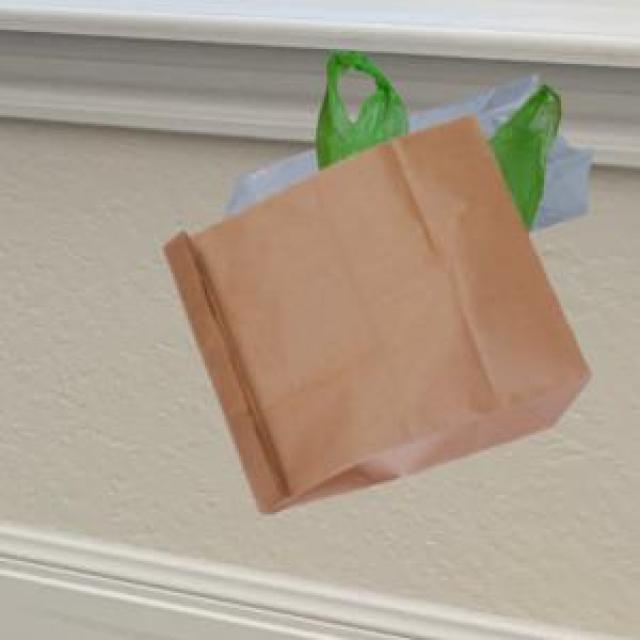paper: (160, 111, 587, 510)
